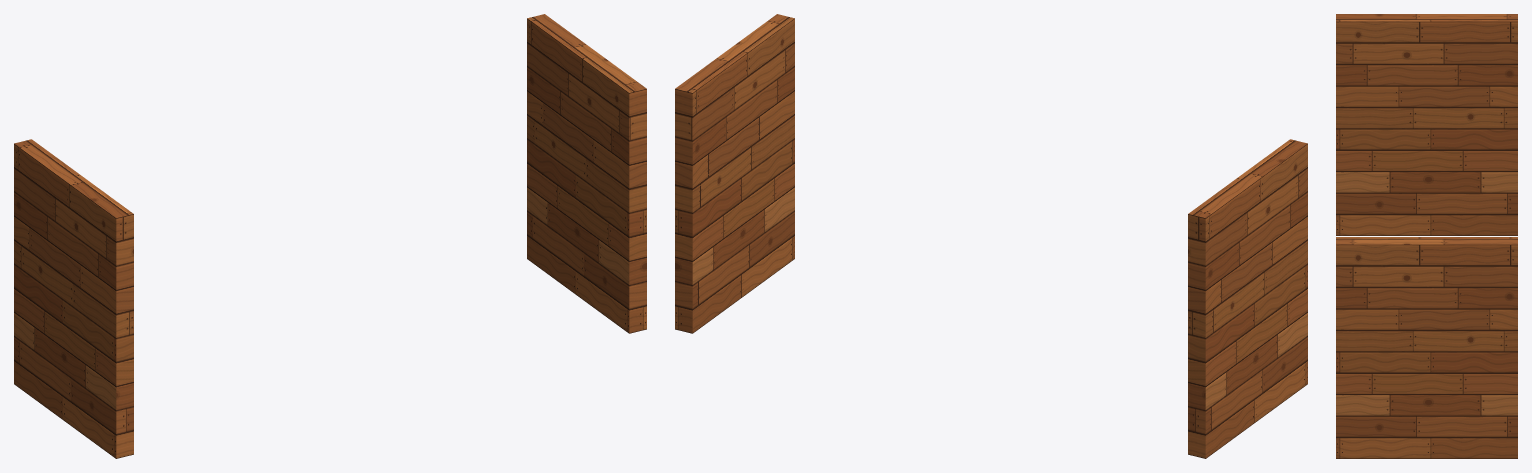
File: MIDDLE_CENTRE.glb
3 views of the same model, side by side, from view 1: azimuth 30°, elevation 25°; view 2: azimuth 150°, elevation 25°; view 3: azimuth 270°, elevation 25° (orthographic). The views are drawn at different scales.
Parts seen in each view (by area): view 1: MIDDLE_CENTRE; view 2: MIDDLE_CENTRE; view 3: MIDDLE_CENTRE.
Boxes of the visible parts, box(x1,y1,x2,y2) form: MIDDLE_CENTRE: box(14, 14, 646, 458); MIDDLE_CENTRE: box(675, 14, 1307, 458); MIDDLE_CENTRE: box(1336, 14, 1517, 458).
Bounding box in the file's own units: 6 × 2.6 × 2.
1 material, 1 textured.
